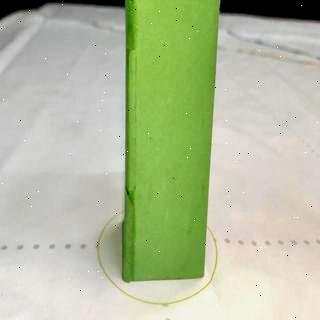greenbox: (127, 0, 220, 281)
